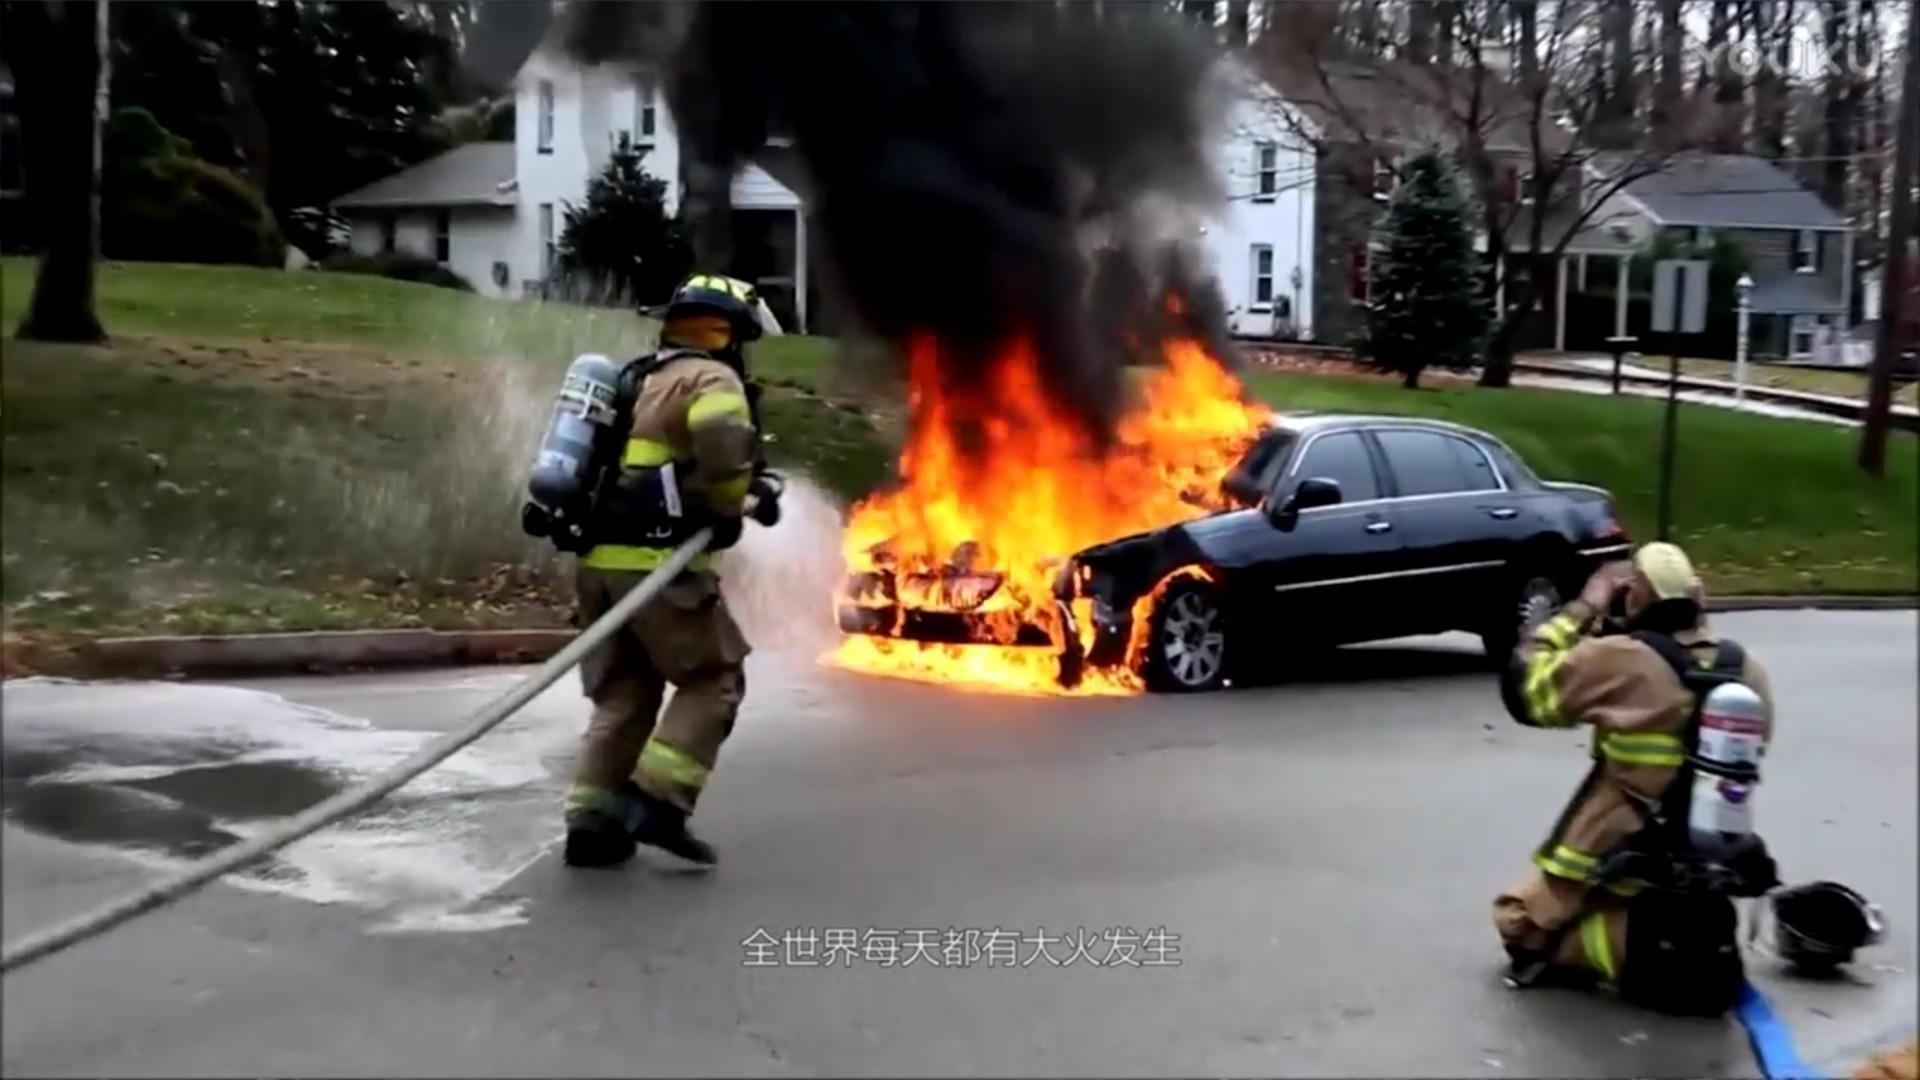fire: (811, 322, 1269, 705)
